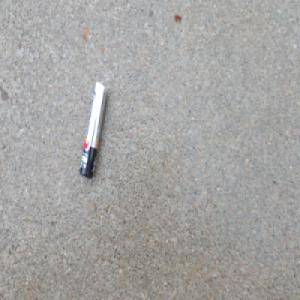Battery: (78, 79, 108, 179)
